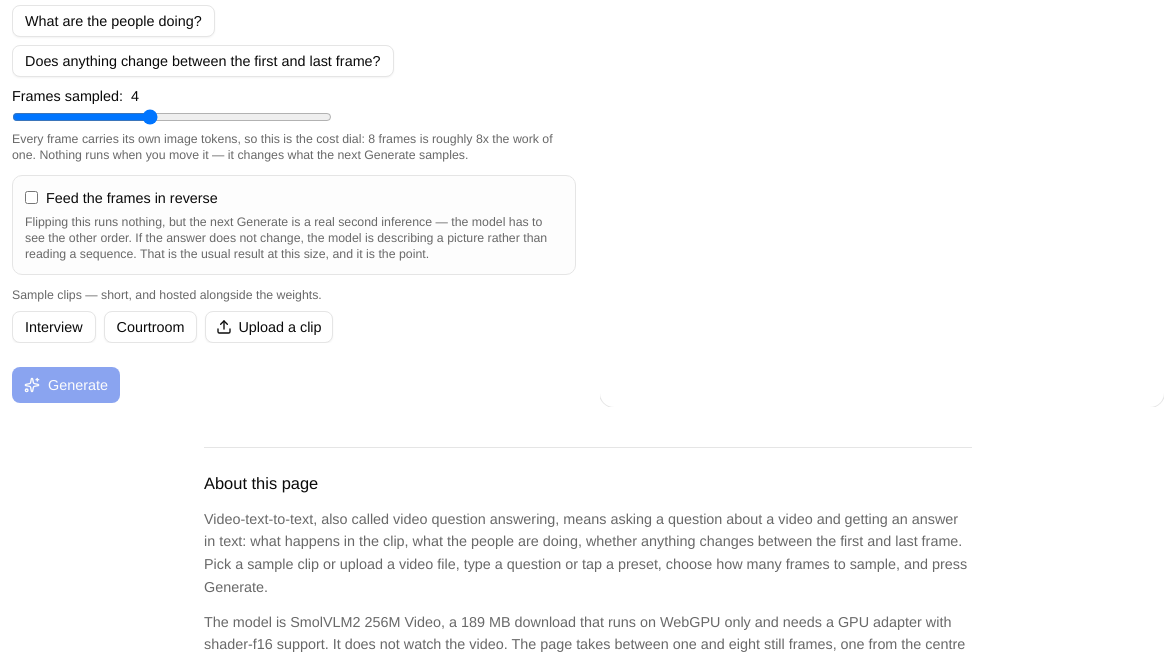
Scenario: VideoTextToTextPage — the answer and the filmstrip › shows the frames that were sent, in sampled order, labelled with the order used
The image size is (1164, 656).
(page scrolled)
Click the button "Interview". click: x=54, y=326
box: [12,310,96,342]
(page scrolled)
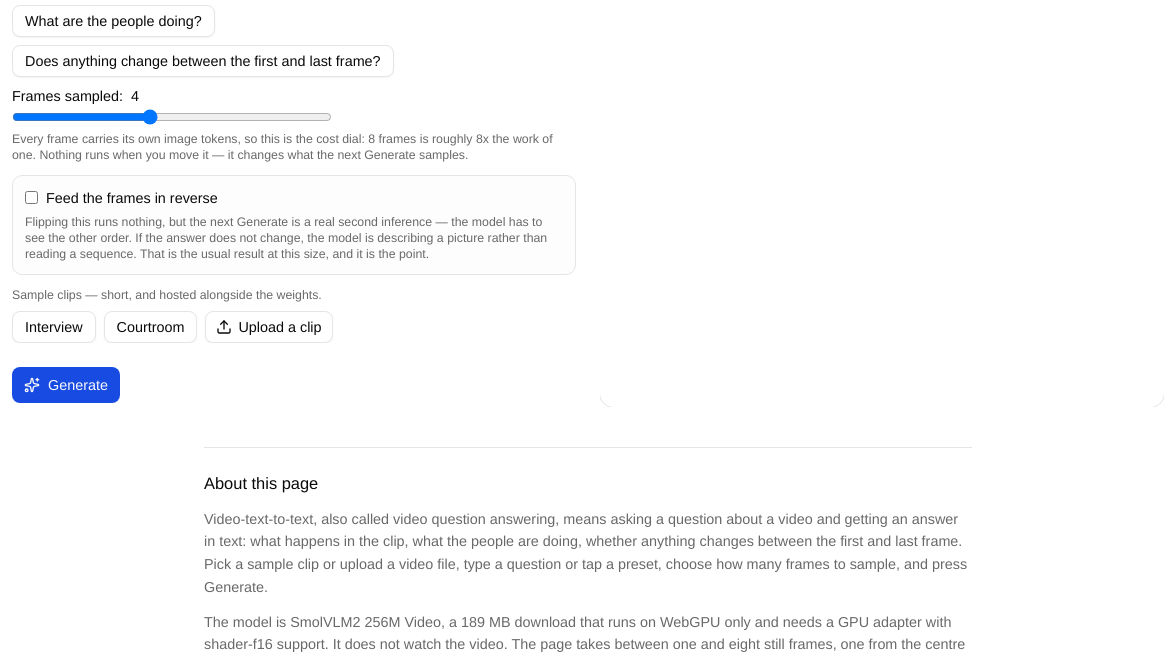
Click the checkbox with test id "reverse-toggle". click: x=32, y=198
box: [25,191,38,204]
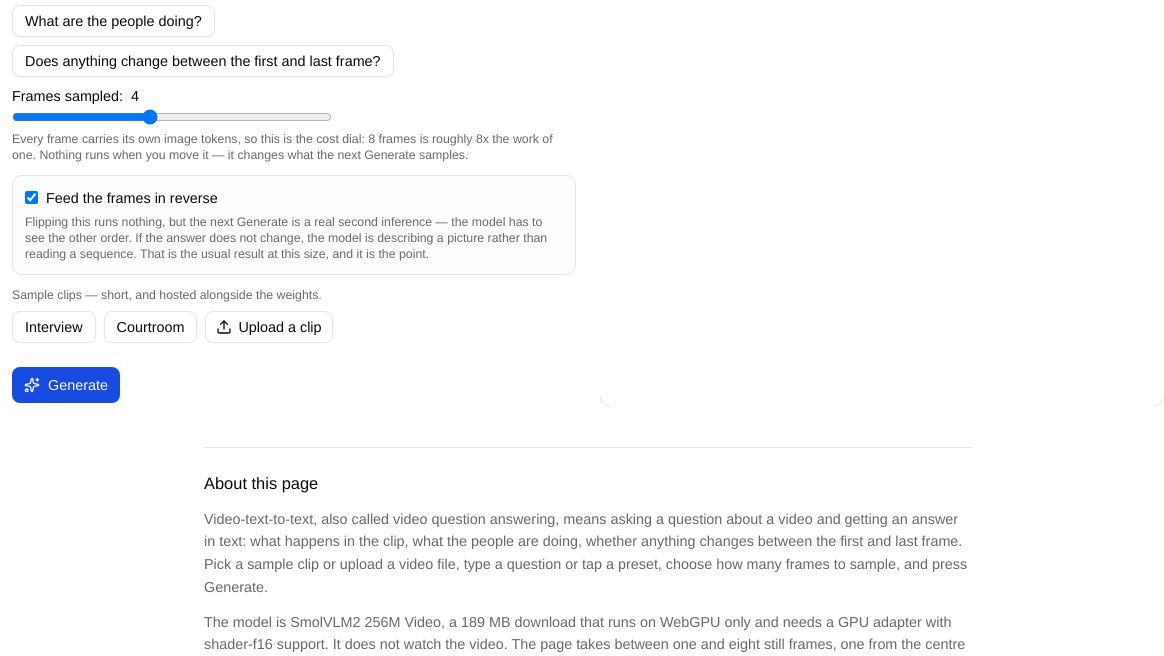
Click the button "Generate". click: x=66, y=384
box: [12,366,120,402]
(page scrolled)
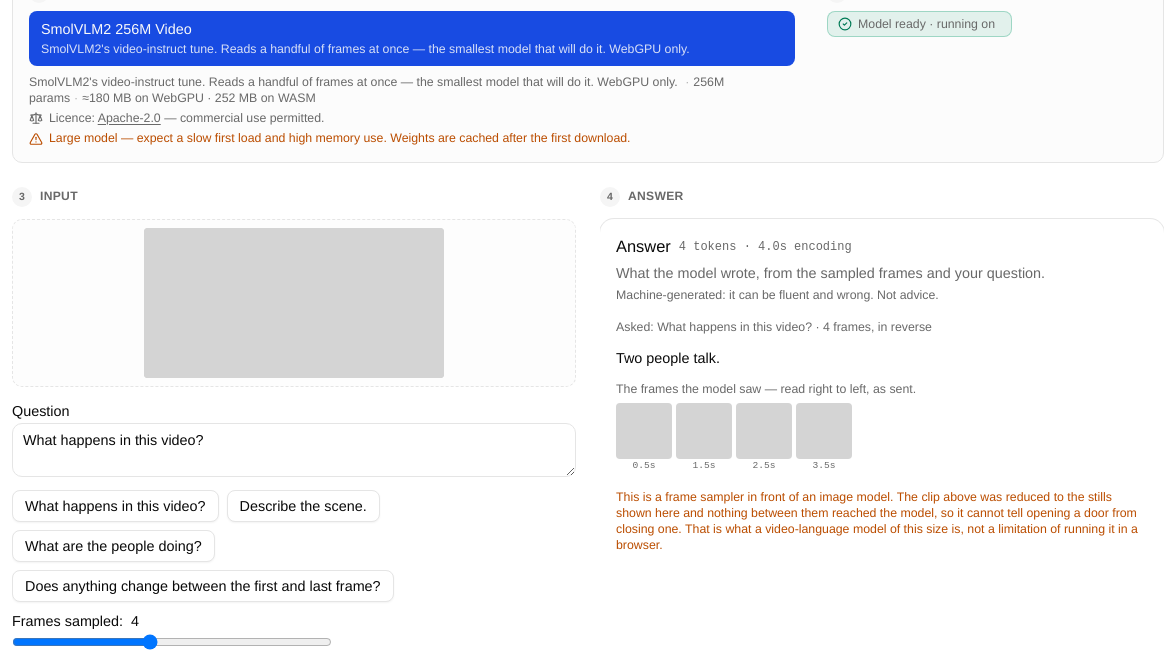
Expected: the list with test id "filmstrip" is shown, [616,403,852,471]
Expected: the text with test id "answer-asked" shows "4 frames, in reverse", [616,318,932,334]
